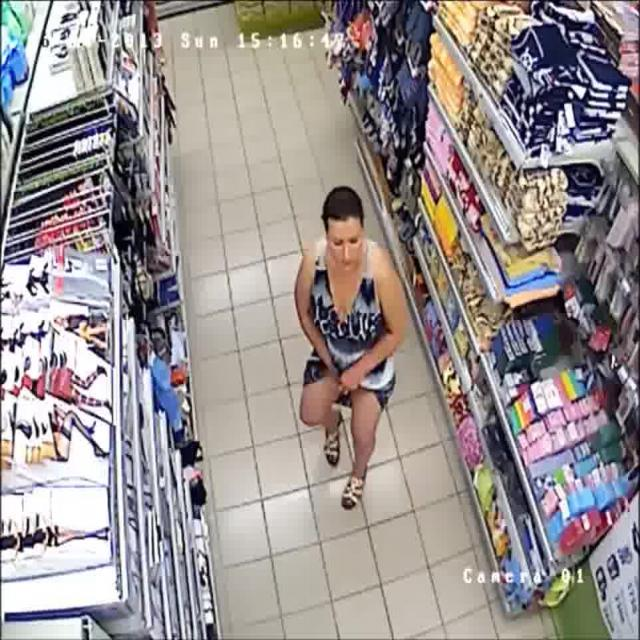persone: (296, 179, 412, 515)
